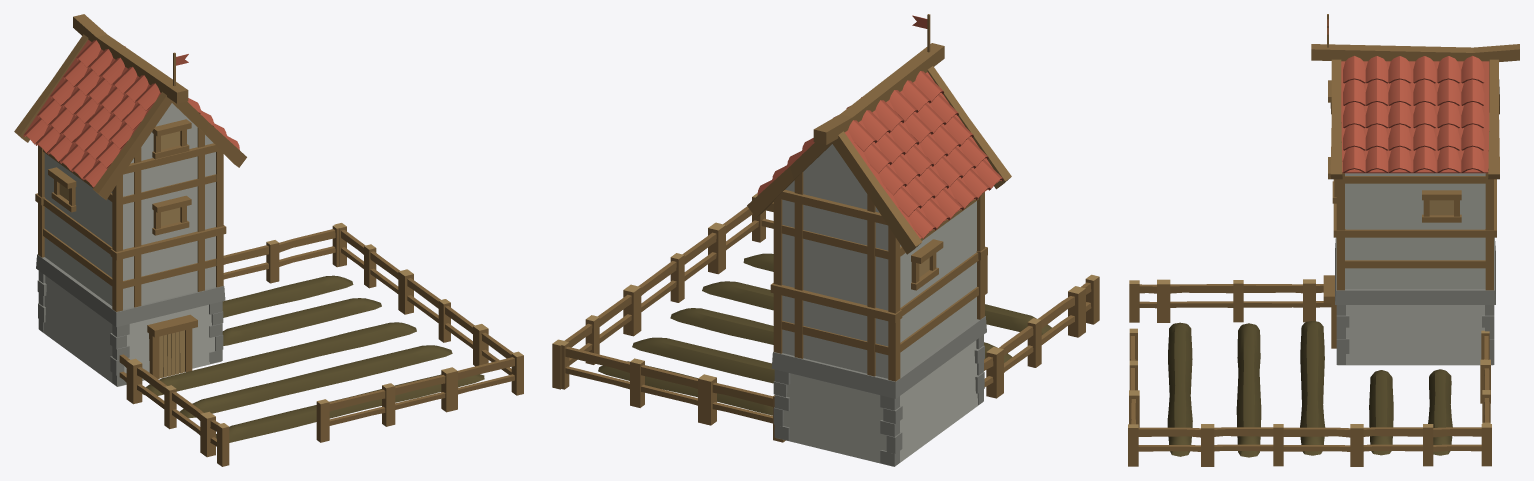
The model's file is Farm-91wMLb9kKo.glb.
3 renders of one model, left to right at view 1: azimuth 30°, elevation 25°; view 2: azimuth 150°, elevation 25°; view 3: azimuth 270°, elevation 25°, orthographic. The views are drawn at different scales.
Visible parts, largest first — view 1: Farm-91wMLb9kKo; view 2: Farm-91wMLb9kKo; view 3: Farm-91wMLb9kKo.
Boxes of the visible parts, box(x1,y1,x2,y2) form: Farm-91wMLb9kKo: box(14, 14, 523, 466); Farm-91wMLb9kKo: box(552, 14, 1099, 466); Farm-91wMLb9kKo: box(1128, 14, 1519, 466).
Bounding box in the file's own units: 1.91 × 1.84 × 1.98.
